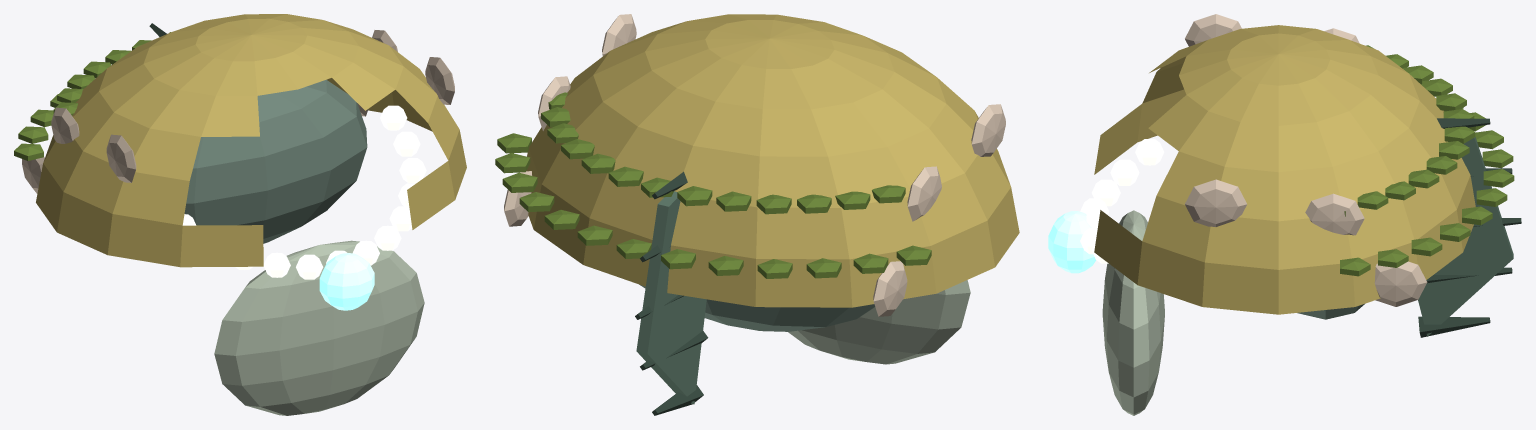
Rendered from river_king_chest.glb.
The picture shows the model from 3 angles, left to right: view 1: azimuth 30°, elevation 25°; view 2: azimuth 150°, elevation 25°; view 3: azimuth 270°, elevation 25°; orthographic projection. The views are drawn at different scales.
Parts seen in each view (by area): view 1: river_king_chest; view 2: river_king_chest; view 3: river_king_chest.
Part boxes in pixels (x1,y1,x2,y2): river_king_chest: (14, 14, 466, 415); river_king_chest: (495, 14, 1019, 415); river_king_chest: (1048, 14, 1521, 415).
Size of the model in its own units: 1.23 by 0.98 by 1.21.
